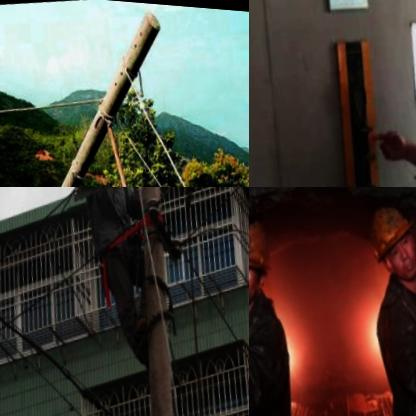helmet: (362, 194, 416, 287), (249, 224, 278, 302)
